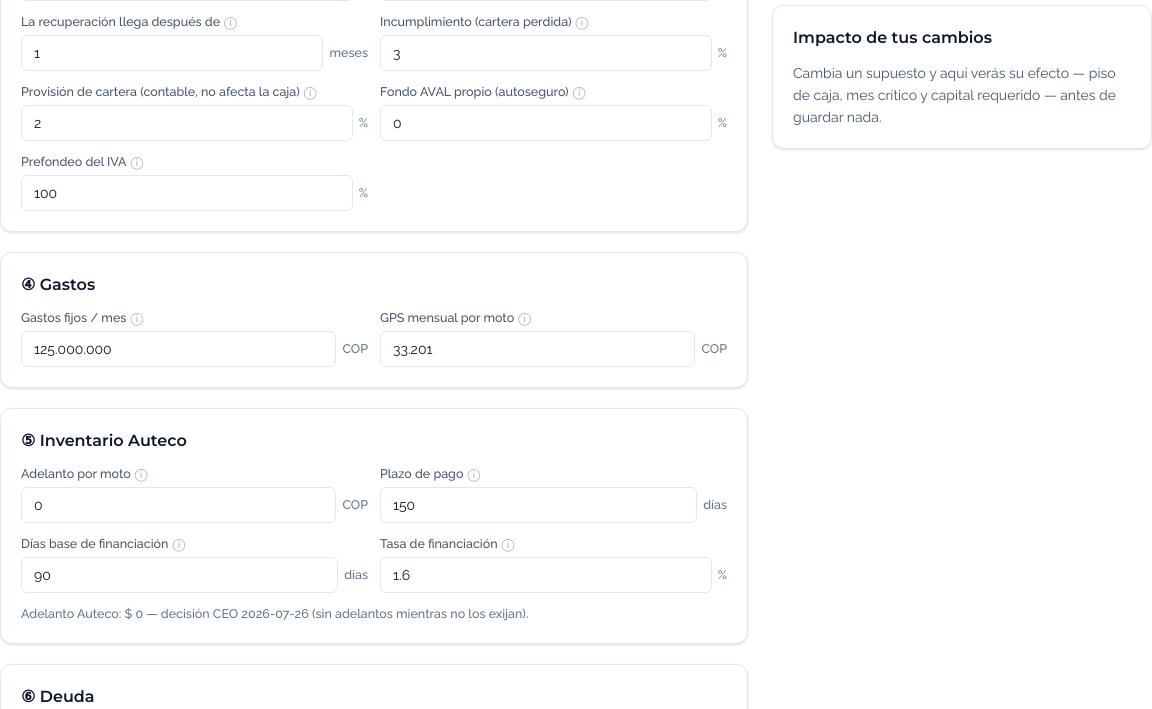
Test: Supuestos — panel de impacto (§6.4) › si el preview falla: aviso, nunca cifras viejas sin marcar
This screenshot has width=1152, height=709.
(page scrolled)
Replace the text in the field showing "125.000.000" with "200.000.000": coordinates (179, 349) [21, 331, 336, 367]
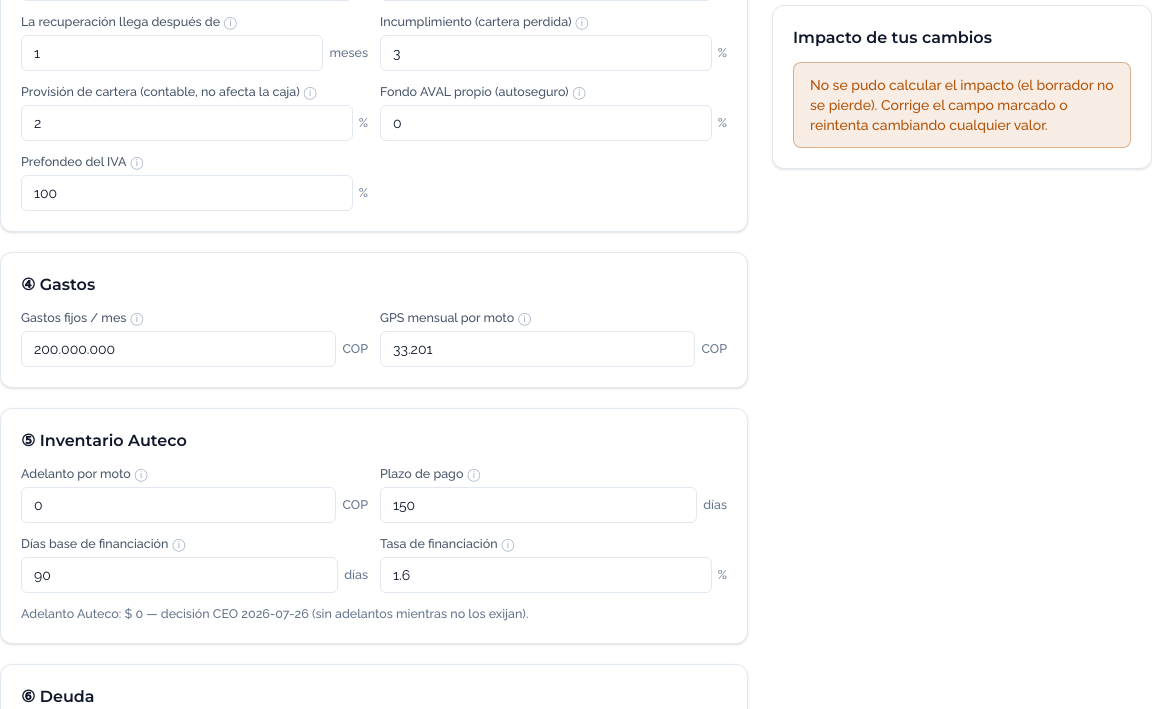
Check: the text "No se pudo calcular el impacto" is shown, box [810, 77, 1114, 133]
